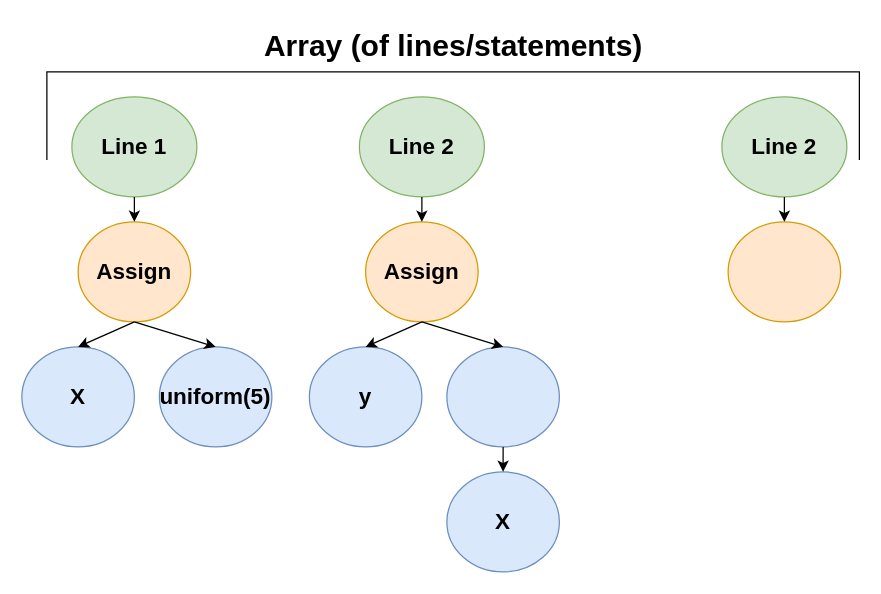
The diagram is 881 pixels wide and 594 high, and some of its shapes have lost their labels. Each missing label, with the centre of its shape:
"output(y)" belongs at point 784,271.
"sample" belongs at point 502,396.
